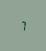seven: (19, 19, 24, 31)
